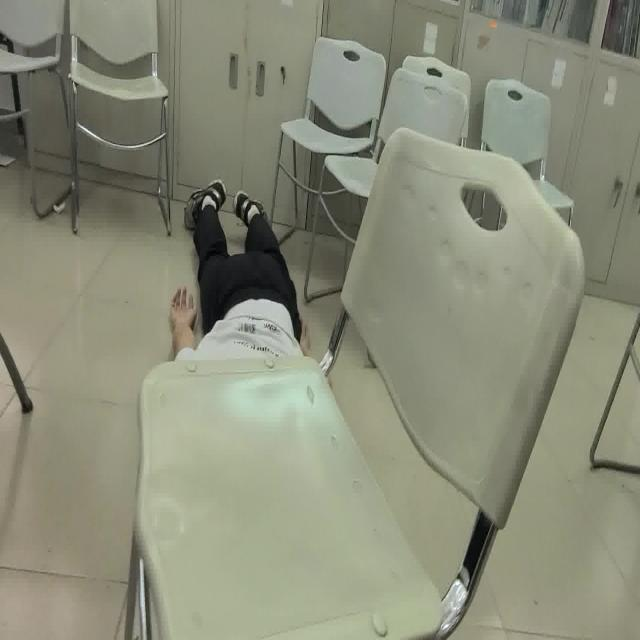fall: (165, 177, 314, 358)
